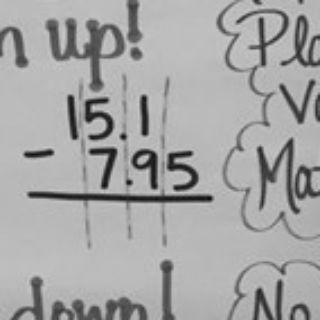.: (117, 130, 127, 140), (126, 177, 132, 189)
1: (64, 91, 80, 141), (137, 93, 152, 139)
5: (166, 147, 202, 191), (84, 95, 116, 142)
7: (87, 144, 117, 189)
9: (130, 147, 161, 190)
